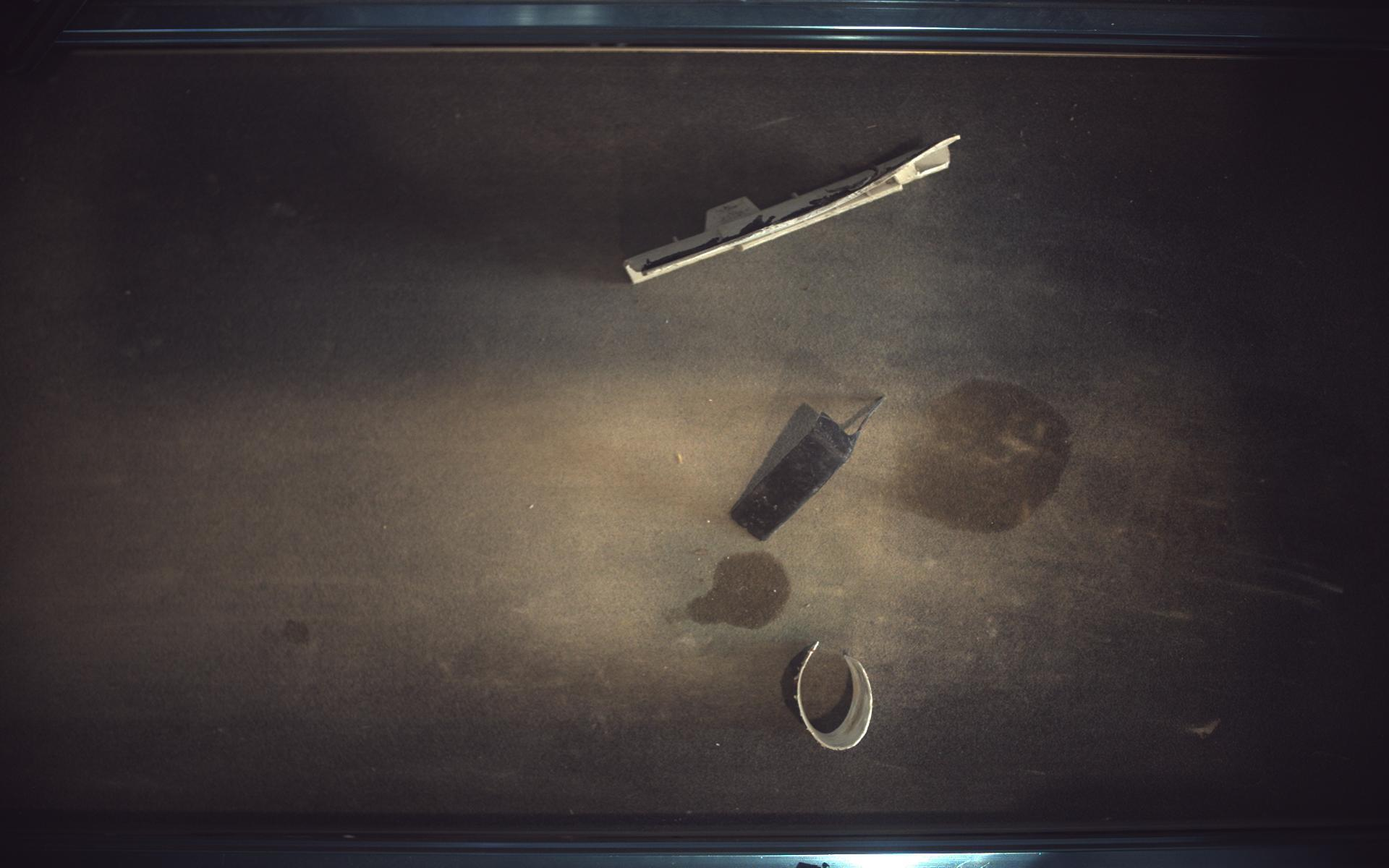plastic: (626, 134, 962, 283), (731, 395, 887, 541), (797, 642, 875, 752)
